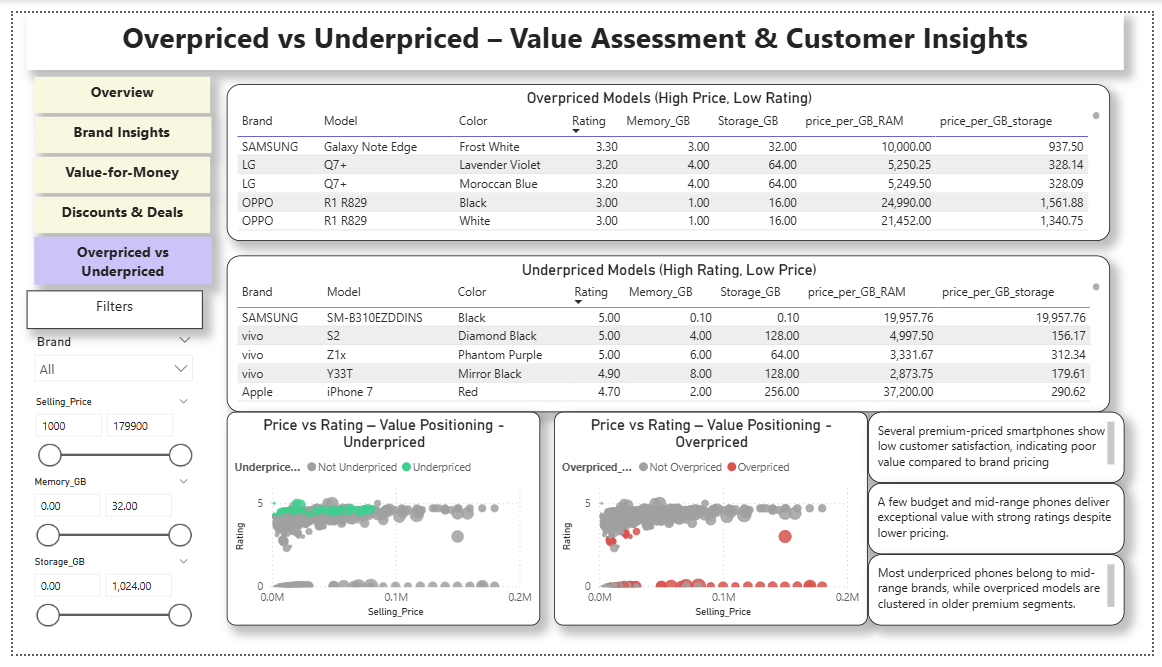

Layout of this report page (visuals, bound fields, positions):
{"tool":"powerbi","page":{"name":"Overpriced vs Underpriced","canvas":[1280,720],"ordinal":4},"visuals":[{"type":"textbox","box":[16,0,1232,64],"z":0},{"type":"textbox","box":[23.8,71.5,197.7,40.7],"z":1000},{"type":"textbox","box":[25.2,116.4,197.7,40.7],"z":2000},{"type":"textbox","box":[23.8,161.3,197.7,40.7],"z":3000},{"type":"textbox","box":[23.8,206.1,197.7,40.7],"z":4000},{"type":"textbox","box":[23.8,251,199.1,53.3],"z":5000},{"type":"slicer","fields":{"Values":["flipkart_mobiles_cleaned.Brand"]},"box":[14.2,355.7,197.7,70.1],"z":6000},{"type":"slicer","fields":{"Values":["flipkart_mobiles_cleaned.Memory_GB"]},"box":[11.4,515.5,197.7,89.7],"z":7000},{"type":"slicer","fields":{"Values":["flipkart_mobiles_cleaned.Storage_GB"]},"box":[11.4,605.3,197.7,88.3],"z":8000},{"type":"slicer","fields":{"Values":["flipkart_mobiles_cleaned.Selling_Price"]},"box":[12.8,425.8,196.3,89.7],"z":9000},{"type":"textbox","box":[15.6,312.2,197.7,43.5],"z":10000},{"type":"tableEx","title":"Overpriced Models (High Price, Low Rating)","fields":{"Values":["flipkart_mobiles_cleaned.Brand","flipkart_mobiles_cleaned.Model","flipkart_mobiles_cleaned.Color","flipkart_mobiles_cleaned.Rating","flipkart_mobiles_cleaned.Memory_GB","flipkart_mobiles_cleaned.Storage_GB","flipkart_mobiles_cleaned.price_per_GB_RAM","flipkart_mobiles_cleaned.price_per_GB_storage"]},"box":[240,80,992,176],"z":11000},{"type":"tableEx","title":"Underpriced Models (High Rating, Low Price)","fields":{"Values":["flipkart_mobiles_cleaned.Brand","flipkart_mobiles_cleaned.Model","flipkart_mobiles_cleaned.Color","flipkart_mobiles_cleaned.Rating","flipkart_mobiles_cleaned.Memory_GB","flipkart_mobiles_cleaned.Storage_GB","flipkart_mobiles_cleaned.price_per_GB_RAM","flipkart_mobiles_cleaned.price_per_GB_storage"]},"box":[240,272,992,176],"z":12000},{"type":"scatterChart","title":"Price vs Rating – Value Positioning - Underpriced","fields":{"X":["flipkart_mobiles_cleaned.Selling_Price"],"Y":["flipkart_mobiles_cleaned.Rating"],"Series":["flipkart_mobiles_cleaned.Underpriced_Flag"],"Size":["Avg(flipkart_mobiles_cleaned.Memory_GB)"]},"box":[240,448,352,240],"z":13000},{"type":"scatterChart","title":"Price vs Rating – Value Positioning - Overpriced","fields":{"X":["flipkart_mobiles_cleaned.Selling_Price"],"Y":["flipkart_mobiles_cleaned.Rating"],"Size":["Avg(flipkart_mobiles_cleaned.Memory_GB)"],"Series":["flipkart_mobiles_cleaned.Overpriced_Flag"]},"box":[608,448,352,240],"z":14000},{"type":"textbox","box":[960,448,288,80],"z":15000},{"type":"textbox","box":[960,528,288,80],"z":16000},{"type":"textbox","box":[960,608,288,80],"z":17000}]}

Visuals, with their boxes in screenshot pixels (x1, y1, x2, y2), scaled from the page's 1280x720 canvas onto the 1162x667 screenshot:
textbox: rect(15, 0, 1133, 59)
textbox: rect(22, 66, 201, 104)
textbox: rect(23, 108, 202, 146)
textbox: rect(22, 149, 201, 187)
textbox: rect(22, 191, 201, 229)
textbox: rect(22, 233, 202, 282)
slicer - flipkart_mobiles_cleaned.Brand: rect(13, 330, 192, 394)
slicer - flipkart_mobiles_cleaned.Memory_GB: rect(10, 478, 190, 561)
slicer - flipkart_mobiles_cleaned.Storage_GB: rect(10, 561, 190, 643)
slicer - flipkart_mobiles_cleaned.Selling_Price: rect(12, 394, 190, 478)
textbox: rect(14, 289, 194, 330)
"Overpriced Models (High Price, Low Rating)" tableEx: rect(218, 74, 1118, 237)
"Underpriced Models (High Rating, Low Price)" tableEx: rect(218, 252, 1118, 415)
"Price vs Rating – Value Positioning - Underpriced" scatterChart: rect(218, 415, 537, 637)
"Price vs Rating – Value Positioning - Overpriced" scatterChart: rect(552, 415, 872, 637)
textbox: rect(872, 415, 1133, 489)
textbox: rect(872, 489, 1133, 563)
textbox: rect(872, 563, 1133, 637)
